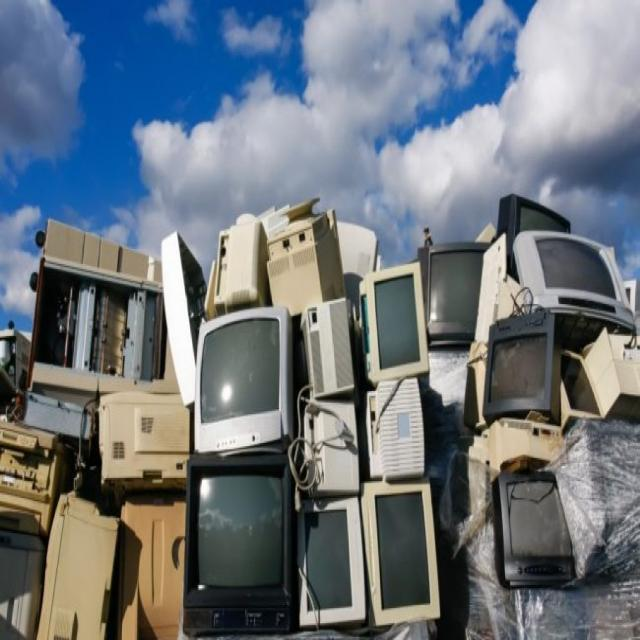heap: (26, 223, 583, 640)
